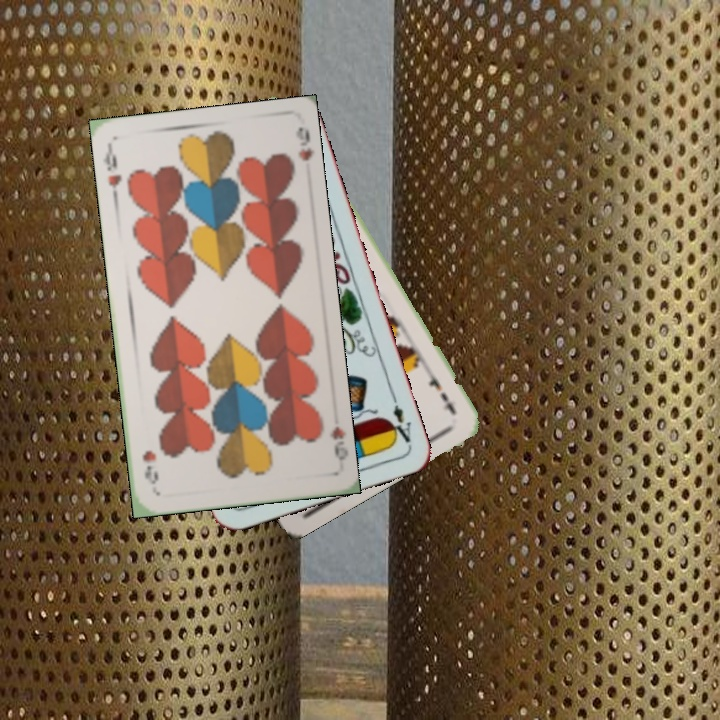E7: (421, 365, 459, 418)
EA: (384, 390, 414, 447)
H9: (100, 143, 125, 202), (325, 422, 348, 463)
